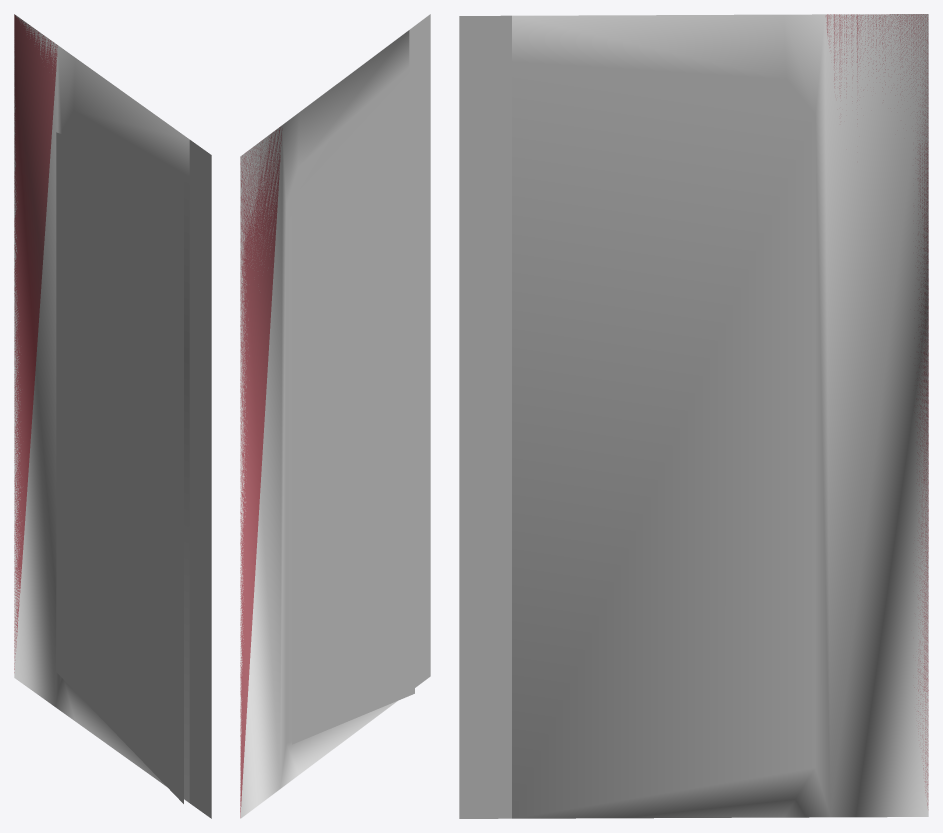
The picture shows the model from 3 angles, left to right: view 1: azimuth 30°, elevation 25°; view 2: azimuth 150°, elevation 25°; view 3: azimuth 270°, elevation 25°; orthographic projection. The views are drawn at different scales.
Size of the model in its own units: 0.0123 by 0.95 by 0.503.
